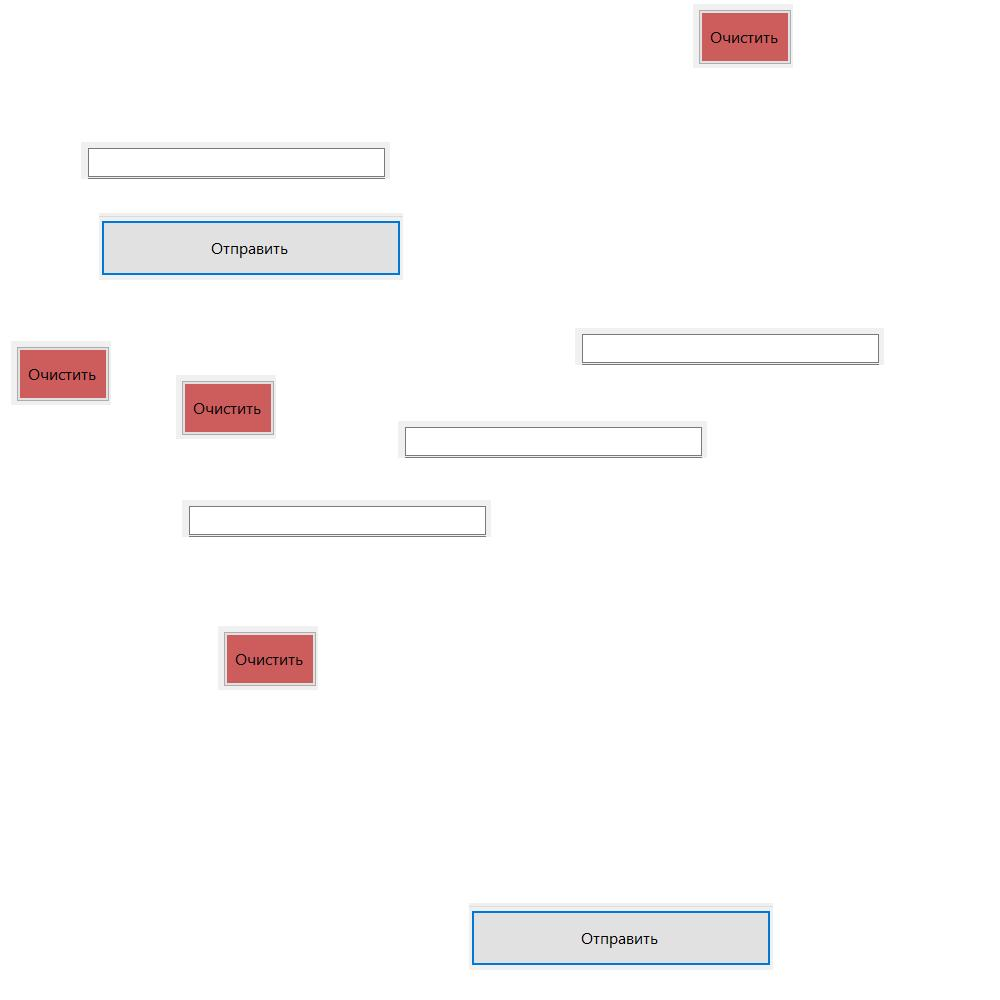Button: (99, 213, 403, 280), (469, 903, 773, 970), (218, 626, 318, 690), (693, 4, 793, 68), (176, 375, 276, 439), (11, 341, 111, 405)
EditText-: (575, 328, 884, 365), (398, 421, 707, 458), (81, 142, 390, 179), (182, 500, 491, 537)
